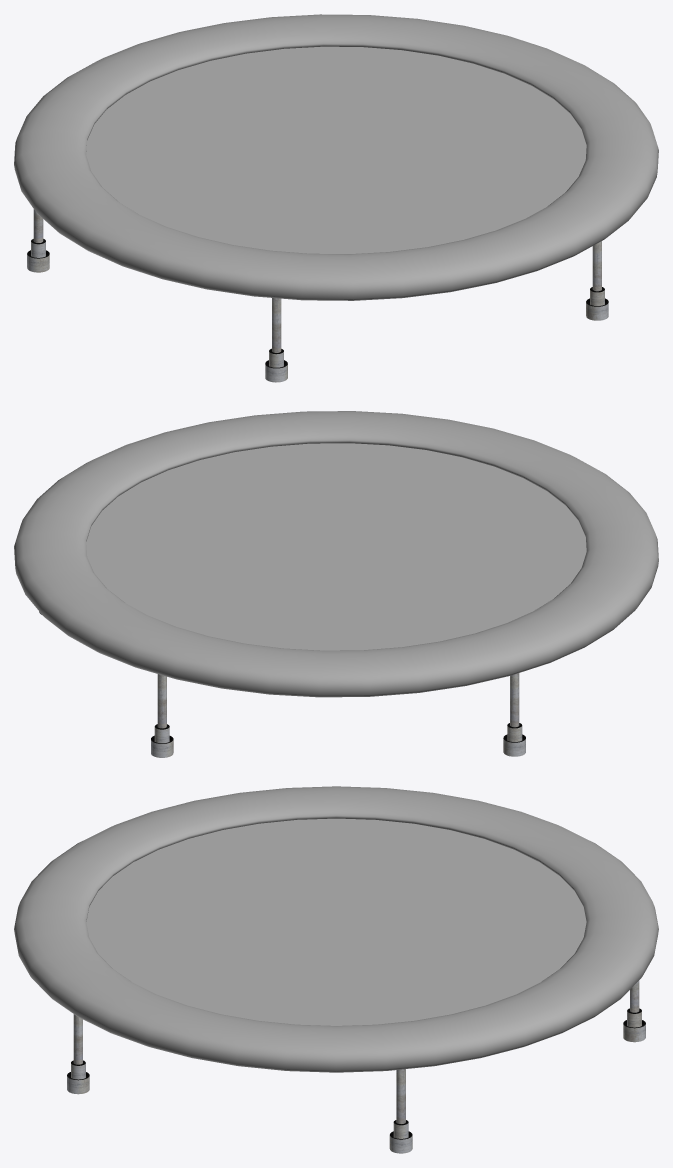
Rendered from trampoline.fbx.
The picture shows the model from 3 angles, top to bottom: view 1: azimuth 30°, elevation 25°; view 2: azimuth 150°, elevation 25°; view 3: azimuth 270°, elevation 25°; orthographic projection.
Parts seen in each view (by area): view 1: trampoline:pTorus2; view 2: trampoline:pTorus2; view 3: trampoline:pTorus2.
Part boxes in pixels (x1,y1,x2,y2): trampoline:pTorus2: [14, 14, 658, 382]; trampoline:pTorus2: [14, 411, 658, 757]; trampoline:pTorus2: [14, 786, 658, 1153].
Size of the model in its own units: 131 by 24.88 by 131.
